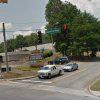Tree: (39, 4, 100, 50)
